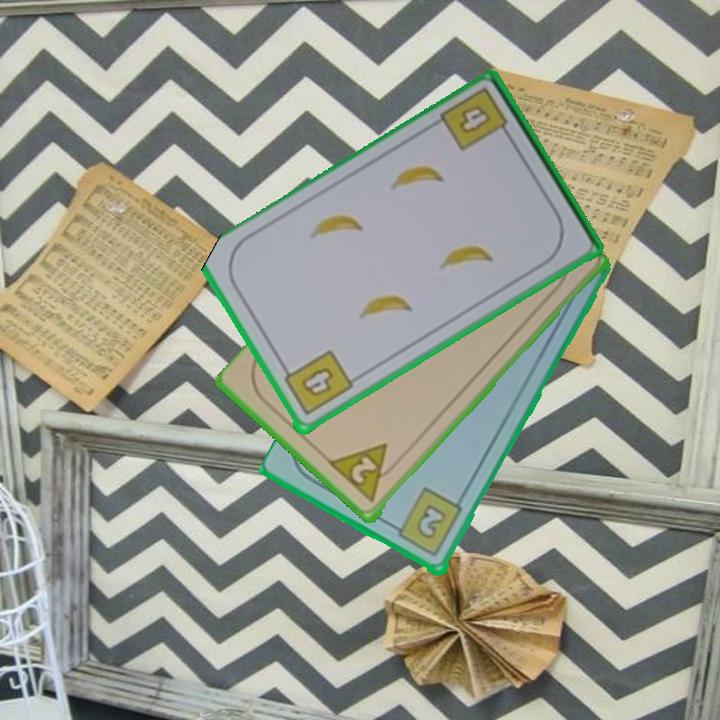2b: (387, 485, 466, 560)
2p: (327, 440, 403, 507)
4b: (278, 347, 356, 419), (455, 102, 494, 138)
